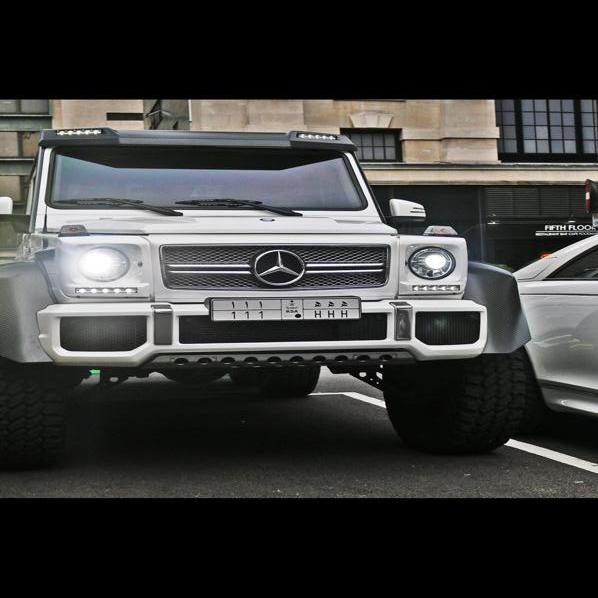numberplate: (214, 300, 363, 320)
